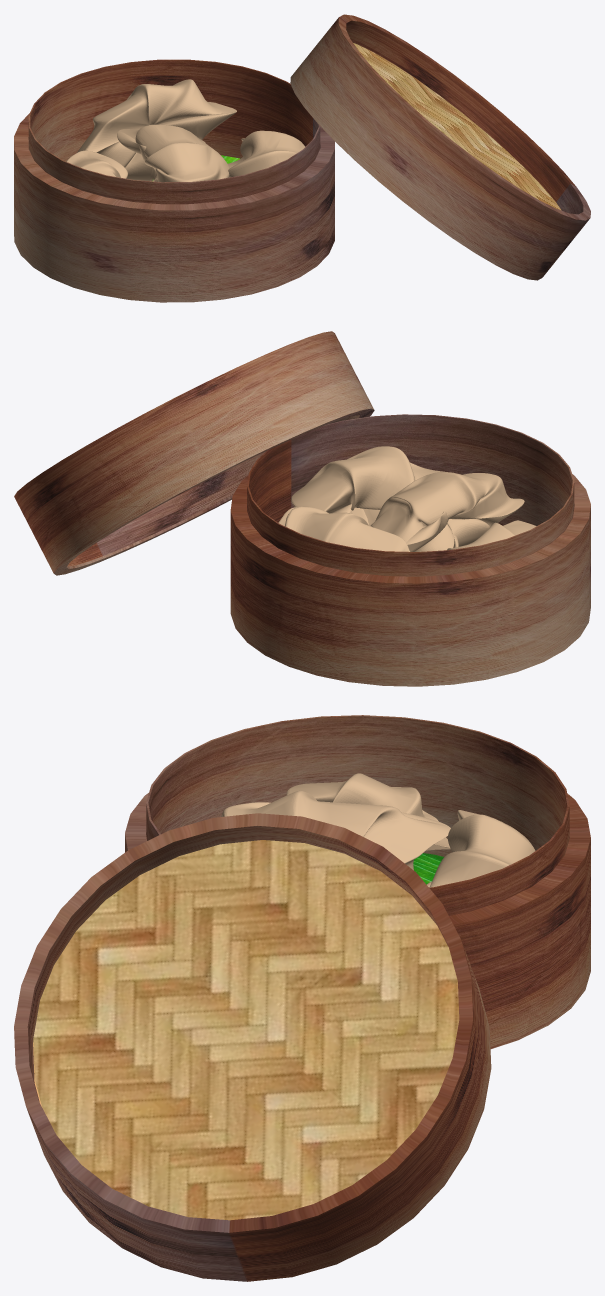
3 renders of one model, top to bottom at view 1: azimuth 30°, elevation 25°; view 2: azimuth 150°, elevation 25°; view 3: azimuth 270°, elevation 25°, orthographic. The views are drawn at different scales.
Parts seen in each view (by area): view 1: Cylinder013, Cylinder017, Cube015, Cube001; view 2: Cylinder013, Cylinder017, Cube015; view 3: Cube001, Cylinder013, Cylinder017, Cube015.
Boxes of the visible parts, x1,y1,x2,y2 form: Cylinder013: (14, 59, 334, 302); Cylinder017: (290, 14, 590, 280); Cube015: (66, 79, 305, 182); Cube001: (353, 43, 561, 210); Cylinder013: (230, 414, 590, 686); Cylinder017: (14, 331, 374, 575); Cube015: (278, 446, 536, 551); Cube001: (33, 840, 459, 1220); Cylinder013: (125, 715, 590, 1048); Cylinder017: (14, 813, 491, 1281); Cube015: (221, 773, 535, 887).
Size of the model in its own units: 0.2867 by 0.132 by 0.1981.
6 materials, 6 textured.
